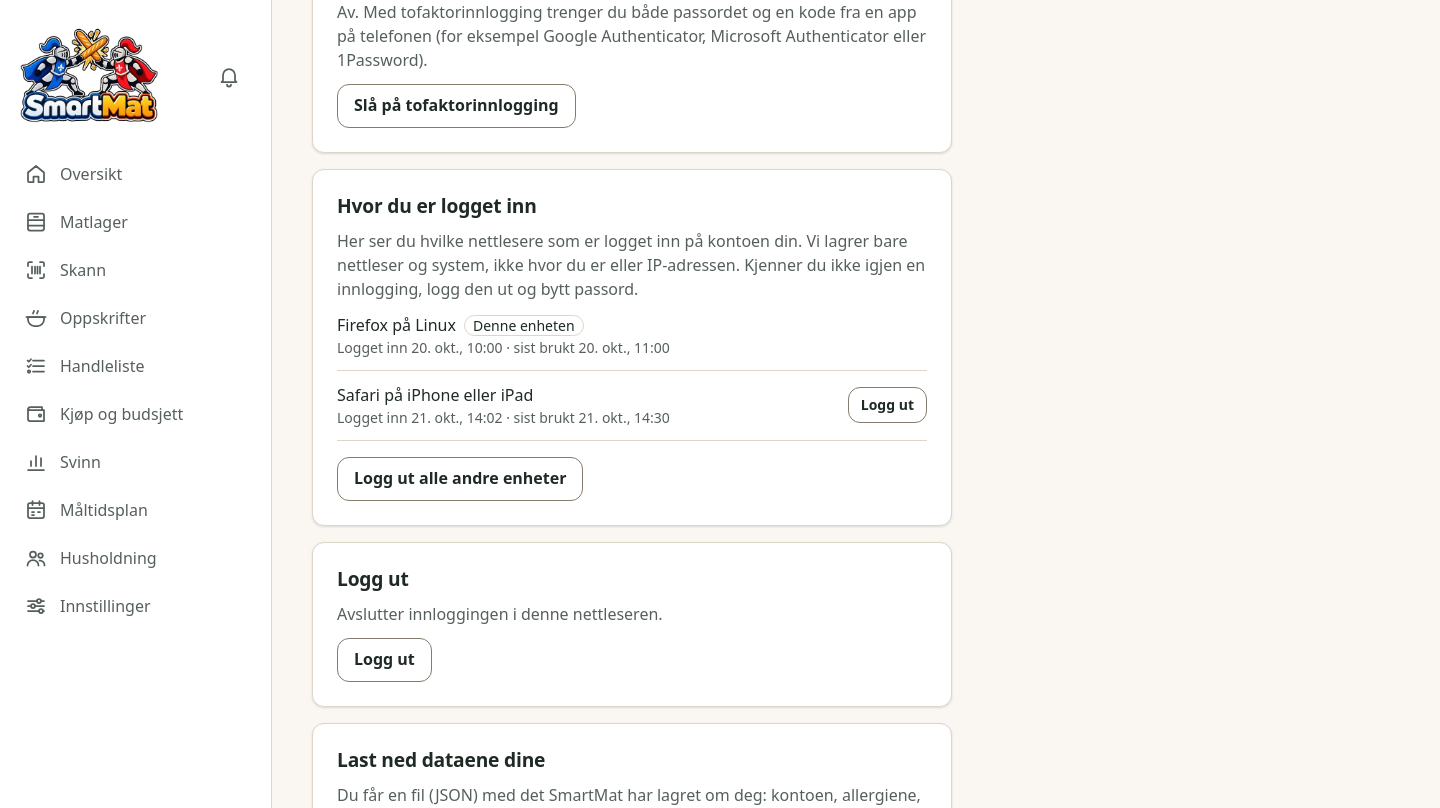
it: FR-AUTH-009 where you are logged in (profile) › "Logg ut" for another device sends DELETE for that session and says so
(page scrolled)
Click the button with aria-label "Logg ut Safari på iPhone eller iPad" at (887, 405), box [848,387,927,423]
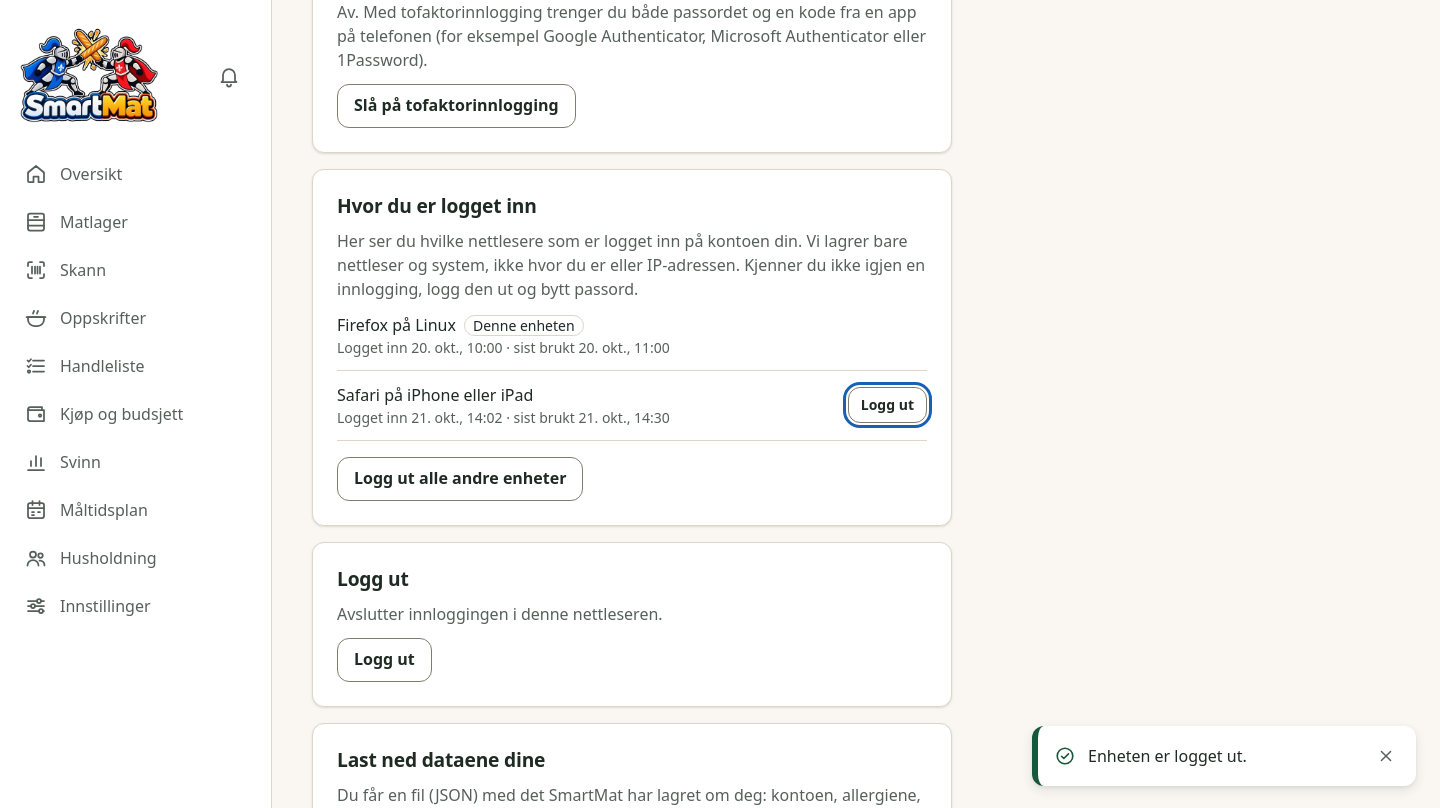
Check: the text "Enheten er logget ut." is shown, box [1087,744,1247,767]
